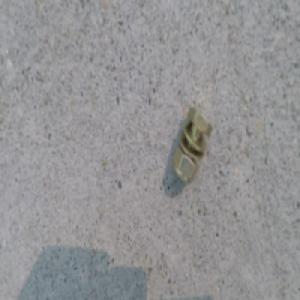BoltNutSet: (168, 111, 207, 186)
